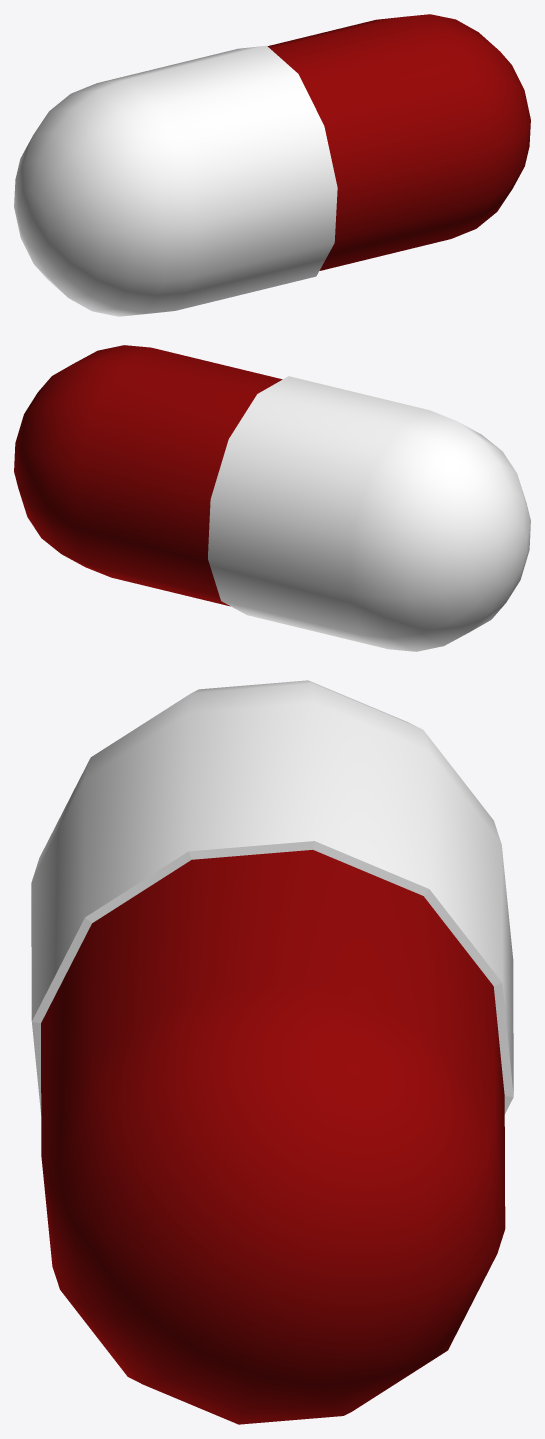
File: Pill 1.fbx
3 renders of one model, top to bottom at view 1: azimuth 30°, elevation 25°; view 2: azimuth 150°, elevation 25°; view 3: azimuth 270°, elevation 25°, orthographic. The views are drawn at different scales.
Parts seen in each view (by area): view 1: pill 1; view 2: pill 1; view 3: pill 1.
Boxes of the visible parts, x1,y1,x2,y2 form: pill 1: (14, 14, 530, 316); pill 1: (14, 345, 530, 651); pill 1: (31, 680, 513, 1424).
Size of the model in its own units: 2.13 by 0.9149 by 0.9153.
Materials: 1 (1 with a texture image).
